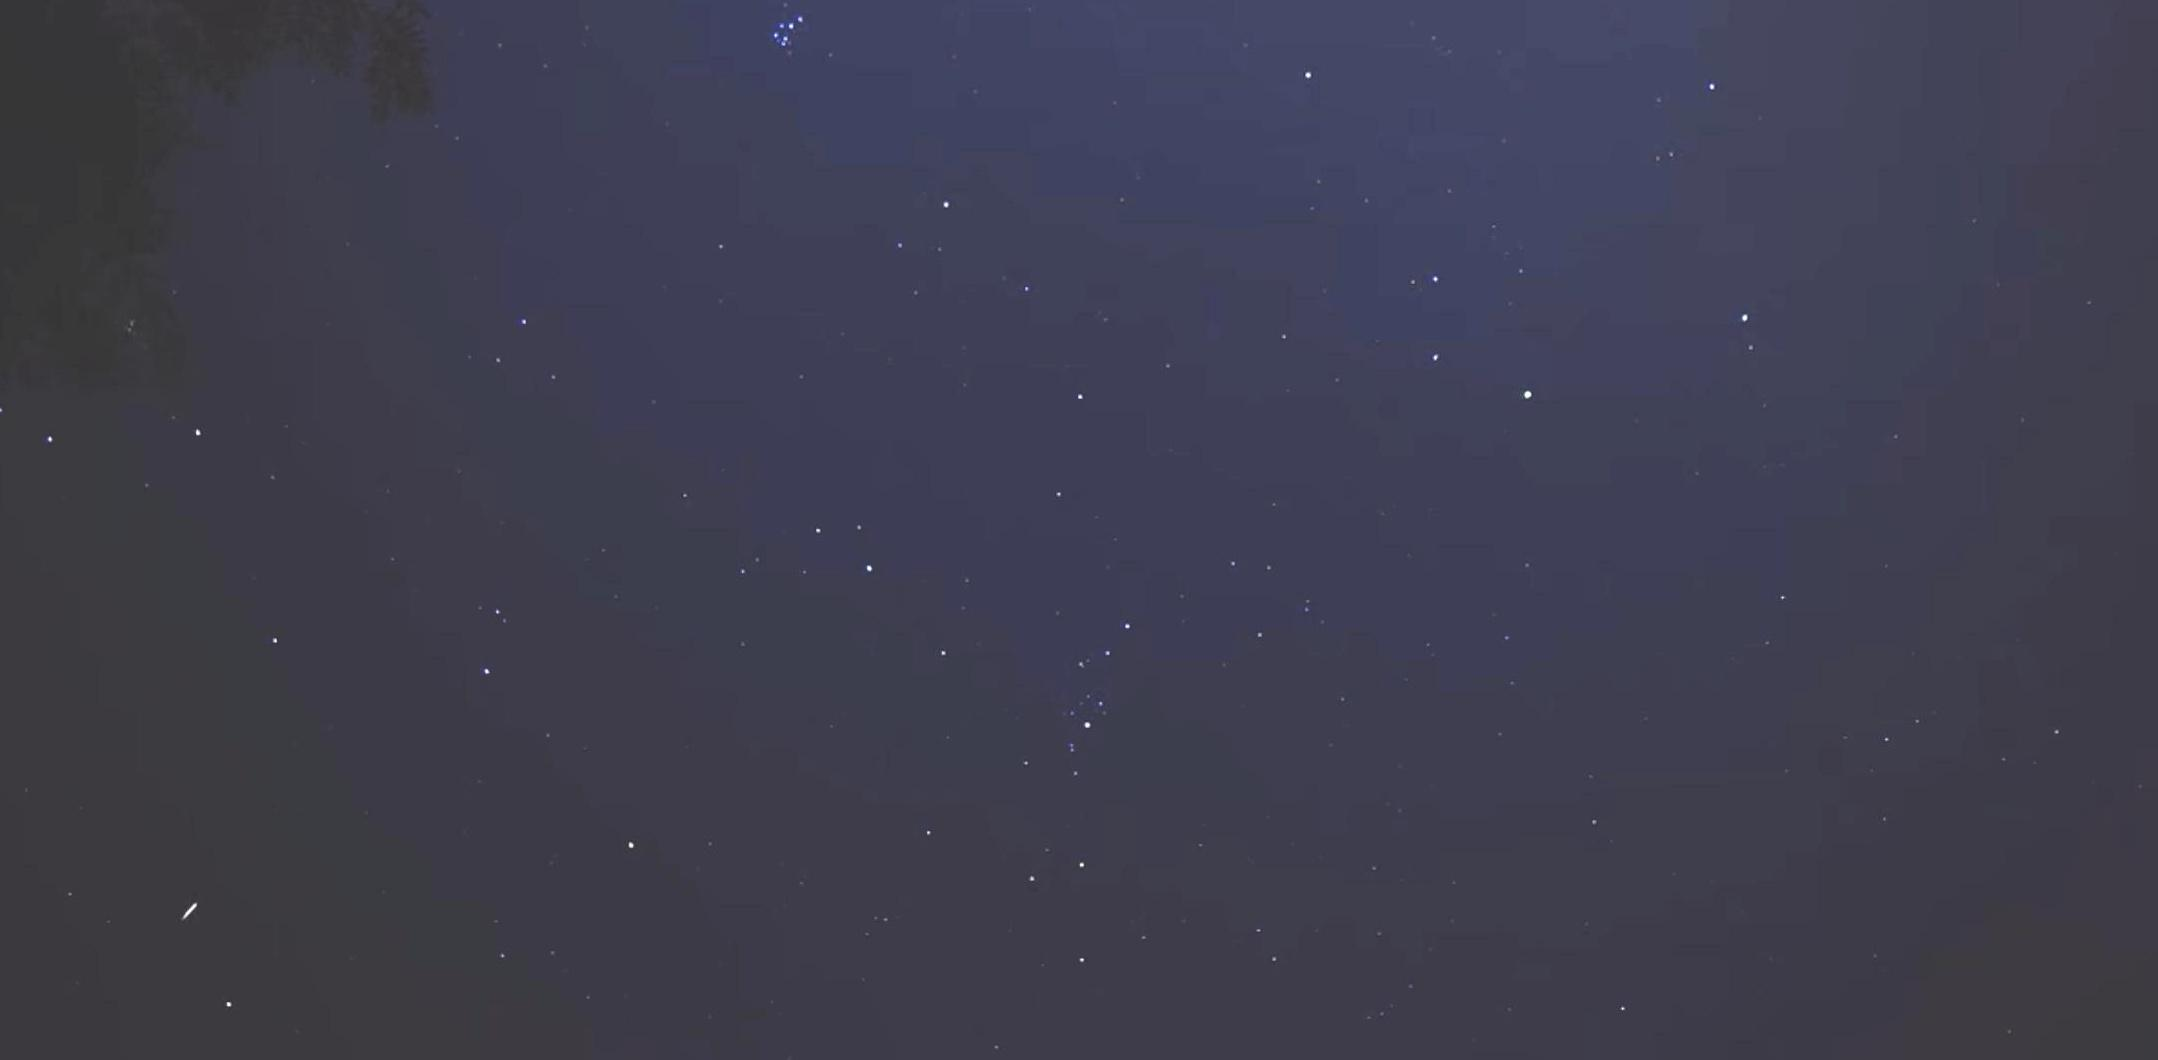meteorite: (167, 891, 212, 936)
